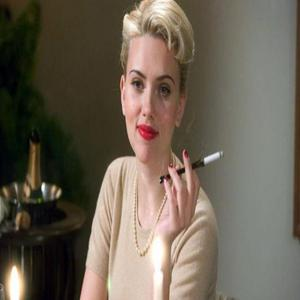cigarette: (197, 151, 226, 166)
